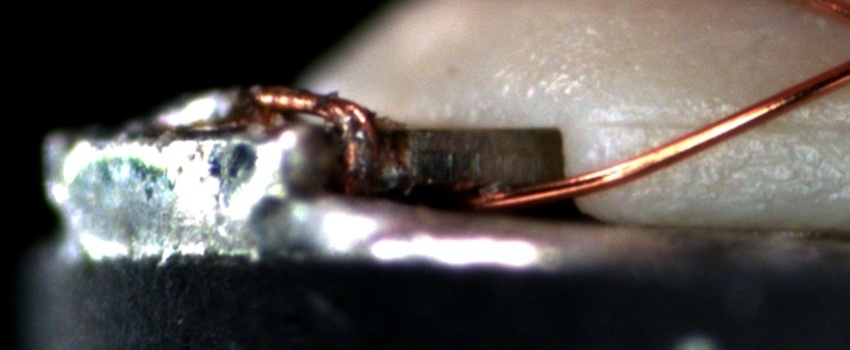DL: (605, 95, 849, 152)
TE: (245, 81, 385, 186)
